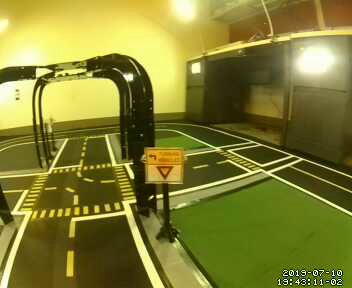Turn Yield: (144, 146, 184, 184)
